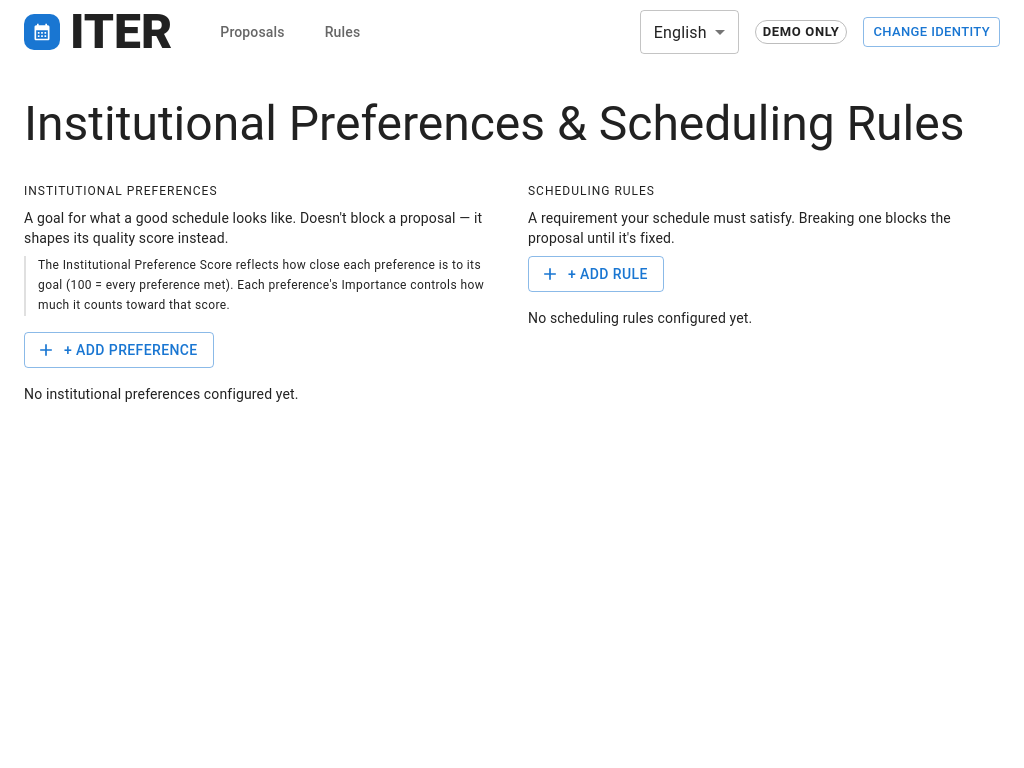
RulesPage › opens Add Rule dialog on button click
Click the button "+ Add Rule" at (596, 274), box [528,256,664,292]
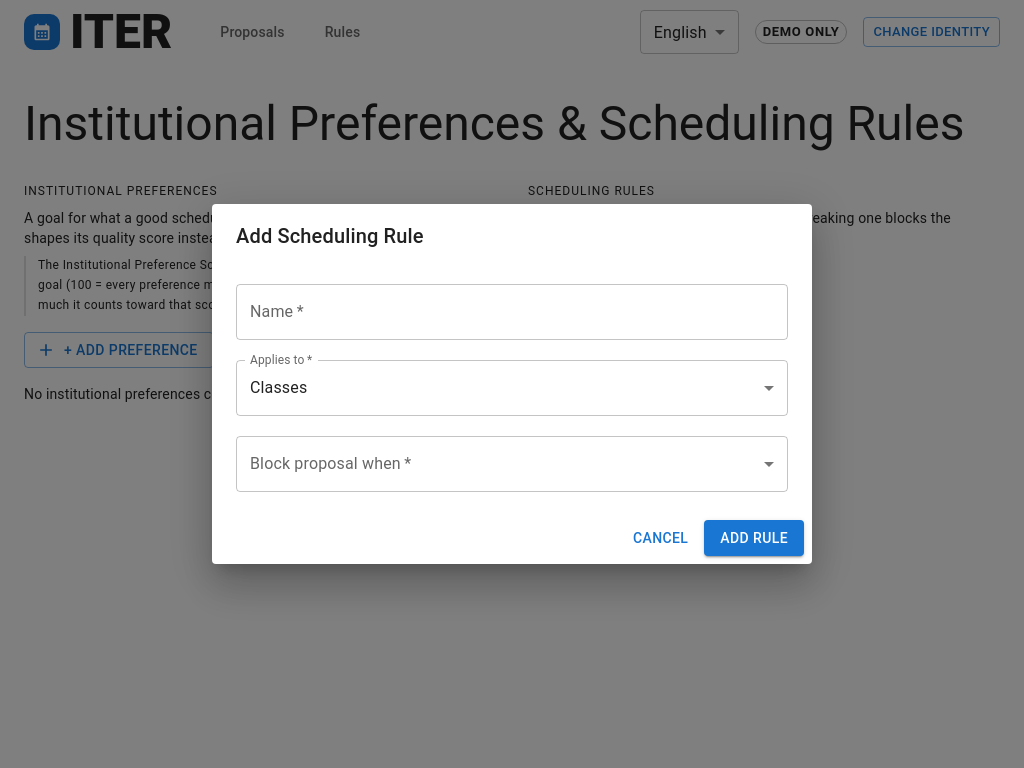
expect the heading "Add Scheduling Rule" is shown: met, box [236,224,424,248]
